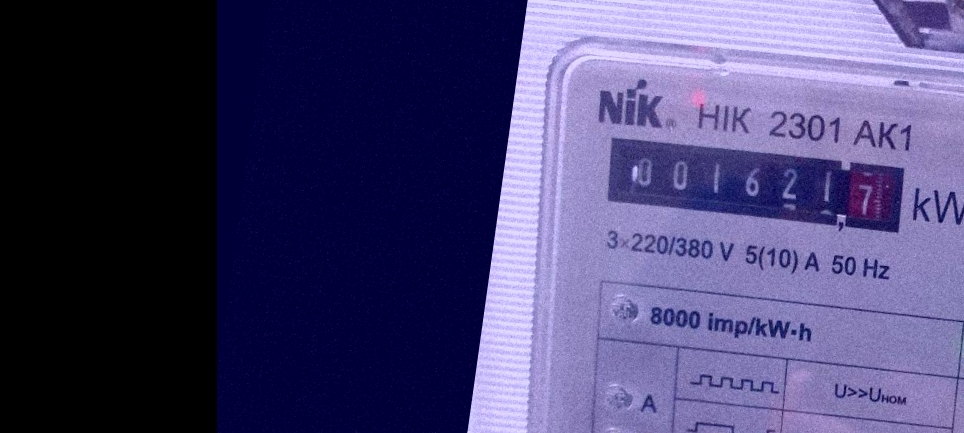0: (667, 155, 694, 195), (632, 152, 657, 189)
1: (818, 166, 837, 205), (707, 159, 726, 196)
2: (778, 165, 804, 203)
6: (741, 163, 764, 200)
7: (851, 180, 876, 218)
screen: (598, 124, 914, 247)
